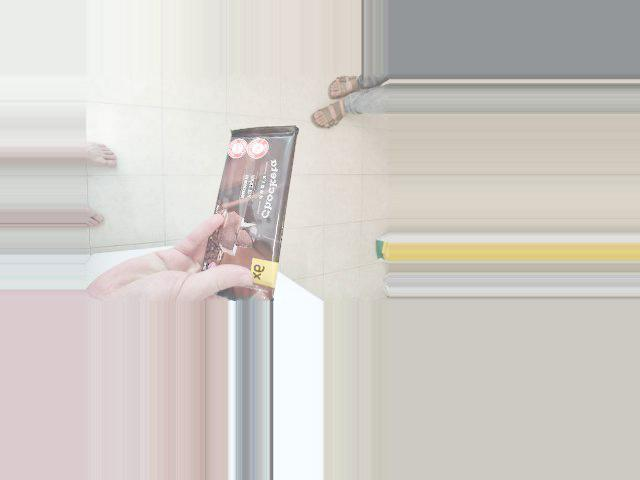chocolate: (191, 125, 304, 297)
